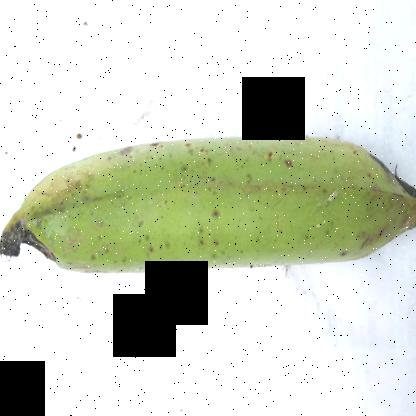unripe: (5, 102, 415, 316)
